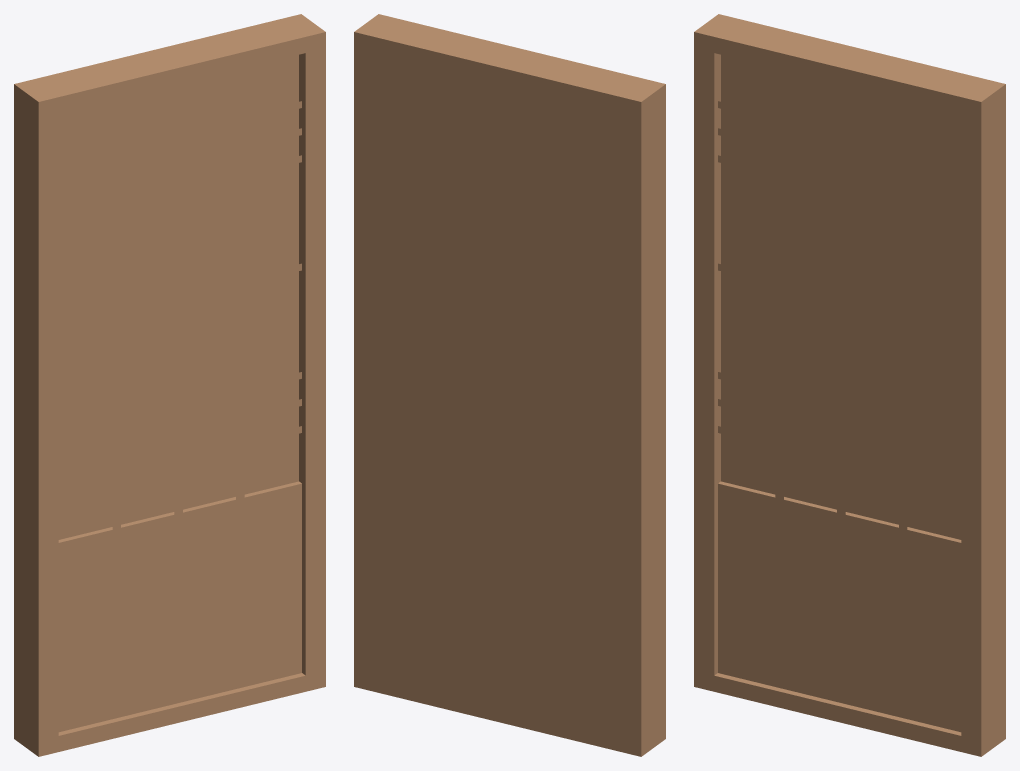
File: Village_Door_B.fbx
3 views of the same model, side by side, from view 1: azimuth 30°, elevation 25°; view 2: azimuth 150°, elevation 25°; view 3: azimuth 330°, elevation 25° (orthographic).
Parts seen in each view (by area): view 1: Village_Door_A.003; view 2: Village_Door_A.003; view 3: Village_Door_A.003.
Part boxes in pixels (left/top/right/bottom): Village_Door_A.003: left=14, top=14, right=325, bottom=756; Village_Door_A.003: left=354, top=14, right=665, bottom=756; Village_Door_A.003: left=694, top=14, right=1005, bottom=756.
Size of the model in its own units: 82.62 by 180 by 12.24.
